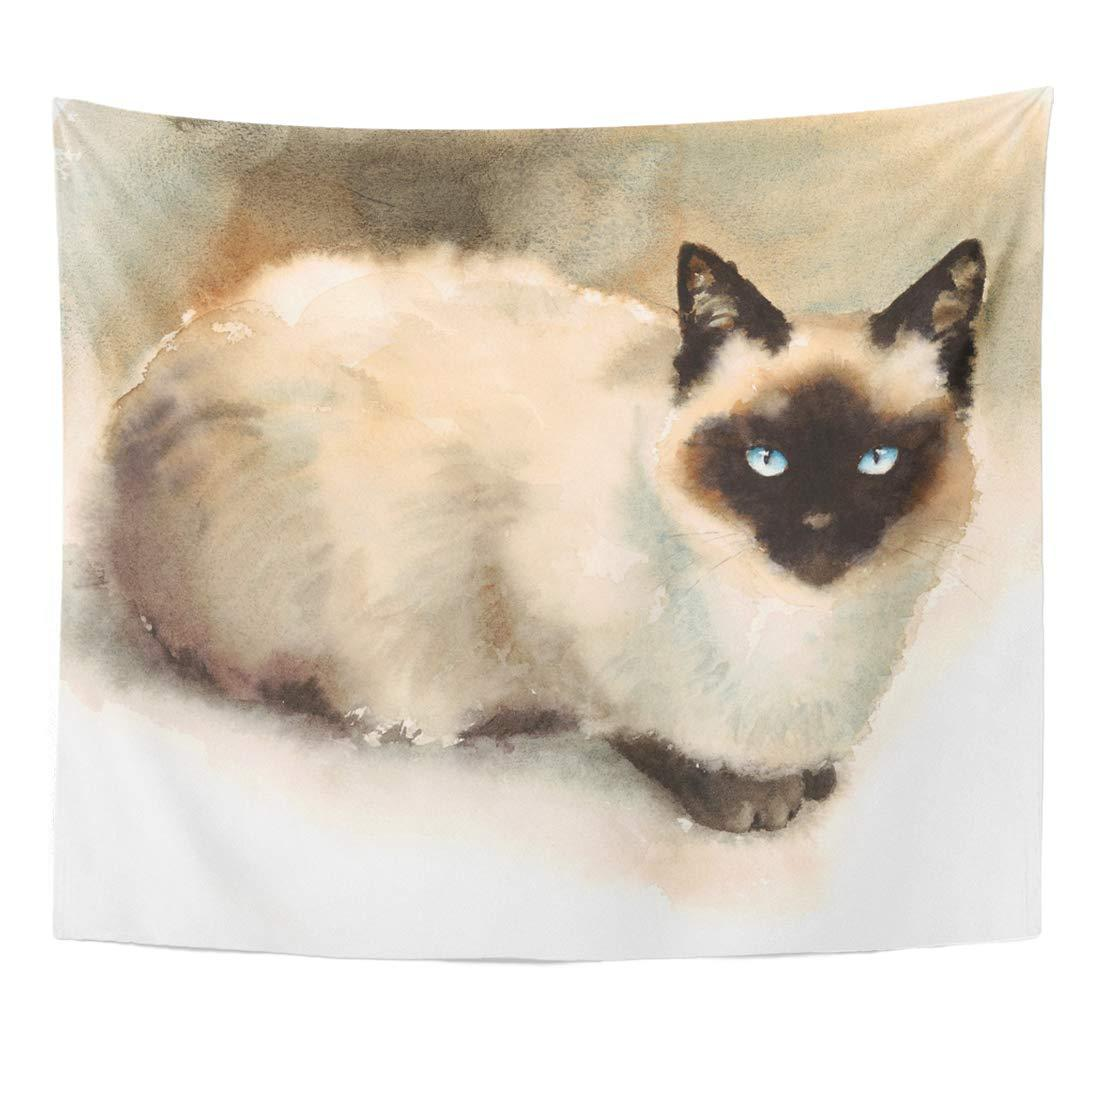siamese: (659, 231, 999, 604)
